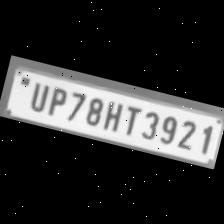1: (192, 120, 216, 156)
2: (172, 114, 199, 151)
3: (136, 105, 162, 142)
7: (60, 86, 86, 123)
8: (80, 92, 106, 128)
9: (154, 110, 180, 145)
H: (100, 96, 126, 132)
P: (41, 82, 68, 119)
T: (119, 101, 144, 137)
U: (23, 78, 50, 113)
